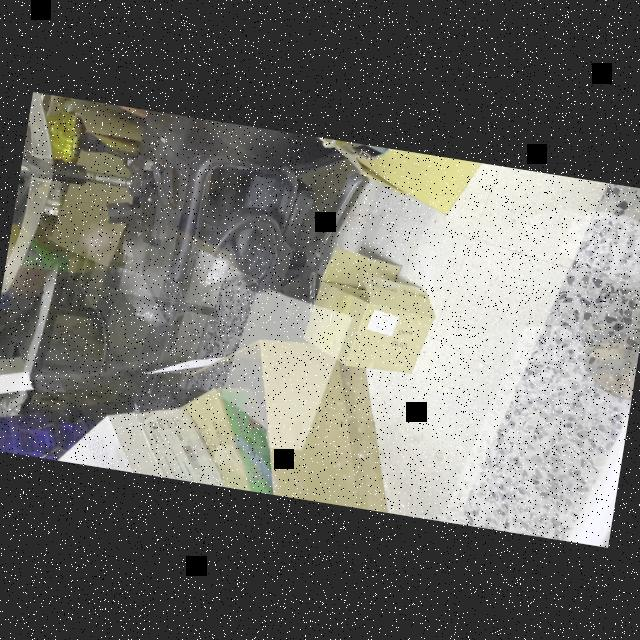cardboard_box: (158, 323, 414, 513), (47, 368, 280, 494), (292, 236, 443, 396)
